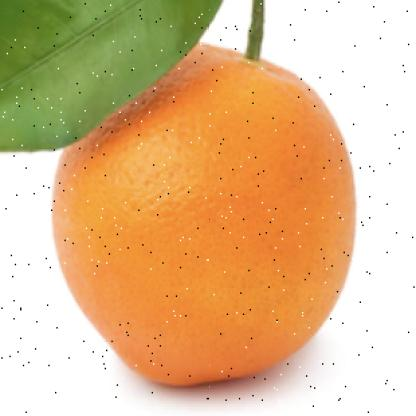fresh: (54, 31, 356, 389)
